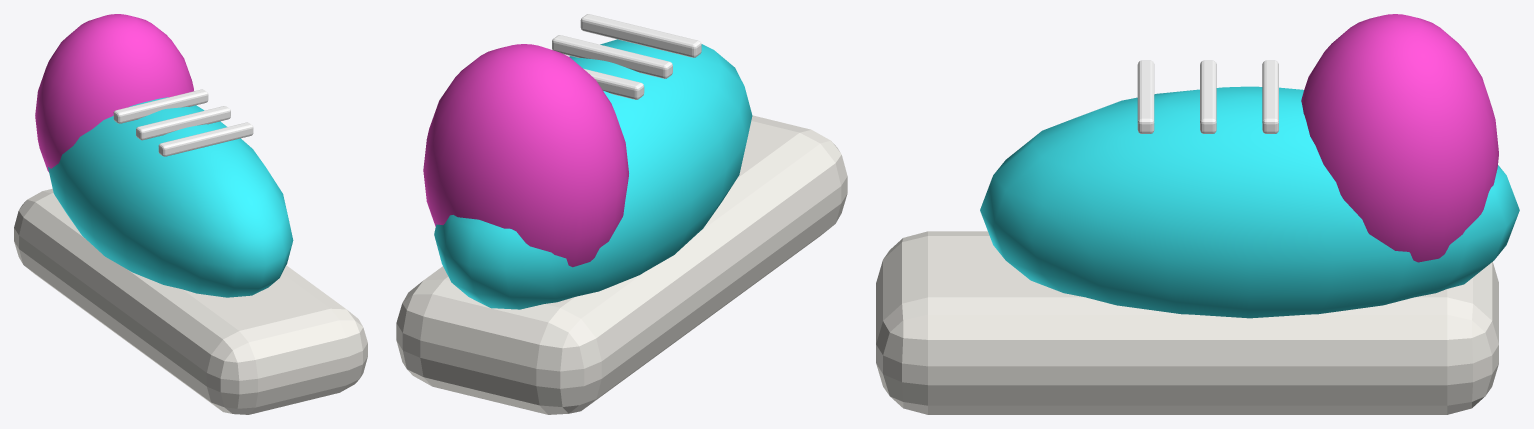
The model's file is Street_Sneaker.fbx.
The picture shows the model from 3 angles, left to right: view 1: azimuth 30°, elevation 25°; view 2: azimuth 150°, elevation 25°; view 3: azimuth 270°, elevation 25°; orthographic projection. The views are drawn at different scales.
Visible parts, largest first — view 1: Street_Sneaker; view 2: Street_Sneaker; view 3: Street_Sneaker.
Part boxes in pixels (bbox=[...]): Street_Sneaker: bbox=[14, 14, 367, 414]; Street_Sneaker: bbox=[396, 14, 847, 414]; Street_Sneaker: bbox=[876, 14, 1519, 414].
Bounding box in the file's own units: 0.12 × 0.19 × 0.31.
